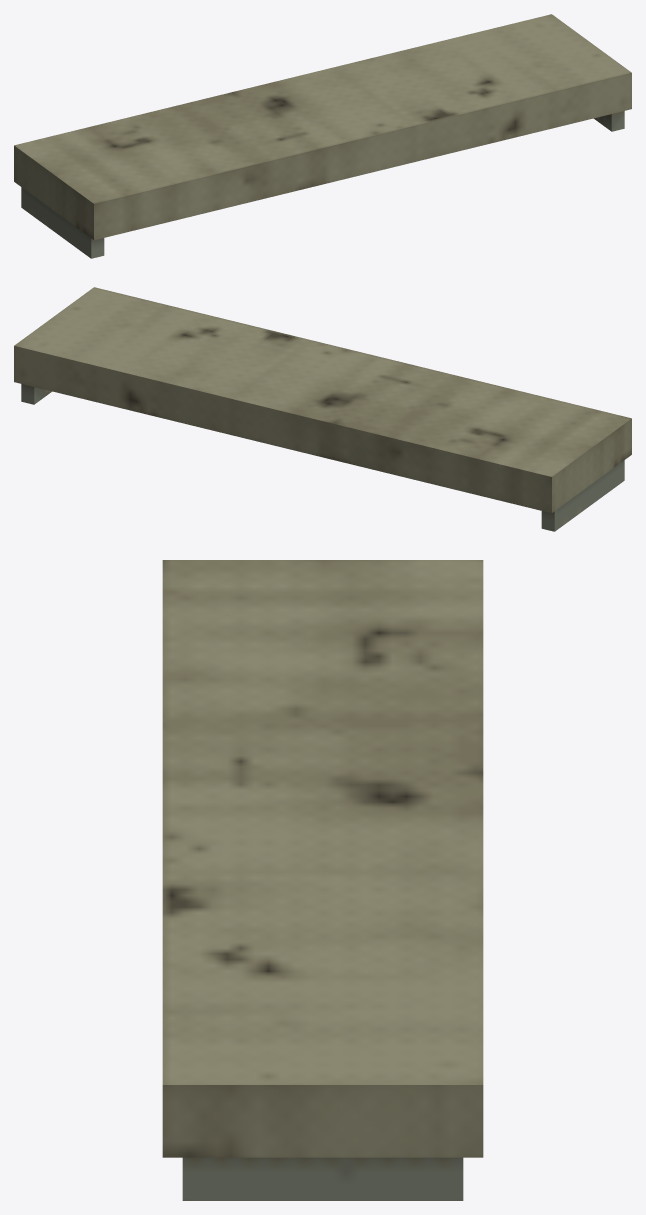
Rendered from Light_Fluorescent_01.obj.
3 renders of one model, top to bottom at view 1: azimuth 30°, elevation 25°; view 2: azimuth 150°, elevation 25°; view 3: azimuth 270°, elevation 25°, orthographic. The views are drawn at different scales.
Parts seen in each view (by area): view 1: Light_Fluorescent_01; view 2: Light_Fluorescent_01; view 3: Light_Fluorescent_01.
Part boxes in pixels (x1=…): Light_Fluorescent_01: x1=14, y1=14, x2=631, y2=258; Light_Fluorescent_01: x1=14, y1=287, x2=631, y2=531; Light_Fluorescent_01: x1=162, y1=560, x2=483, y2=1200.
Bounding box in the file's own units: 1.24 × 0.13 × 0.32.
1 material, 1 textured.
